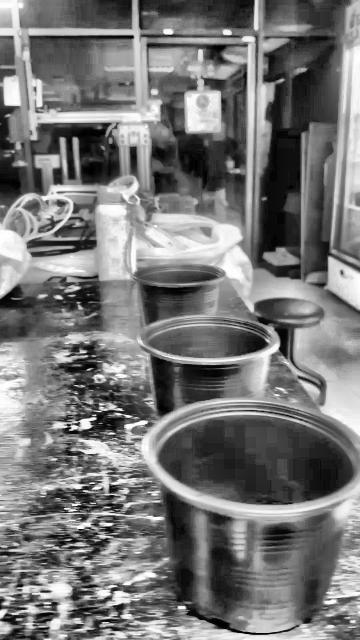pot: (148, 400, 360, 633), (139, 315, 279, 415), (133, 264, 225, 324)
